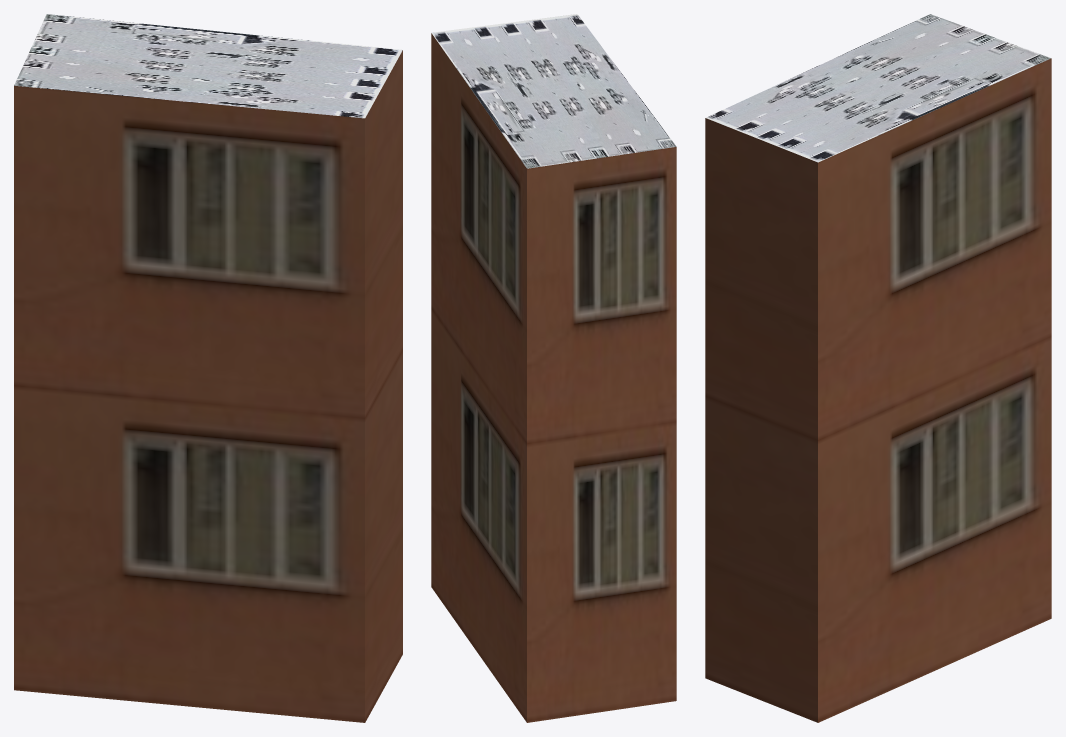
The model's file is ResTex__1699.fbx.
3 renders of one model, left to right at view 1: azimuth 30°, elevation 25°; view 2: azimuth 150°, elevation 25°; view 3: azimuth 270°, elevation 25°, orthographic. The views are drawn at different scales.
Visible parts, largest first — view 1: CityEngineMaterial_20_m, CityEngineMaterial_8_m; view 2: CityEngineMaterial_20_m, CityEngineMaterial_8_m; view 3: CityEngineMaterial_20_m, CityEngineMaterial_8_m.
Boxes of the visible parts, bbox=[...] form: CityEngineMaterial_20_m: bbox=[14, 50, 402, 722]; CityEngineMaterial_8_m: bbox=[14, 14, 402, 118]; CityEngineMaterial_20_m: bbox=[431, 33, 676, 722]; CityEngineMaterial_8_m: bbox=[431, 14, 676, 168]; CityEngineMaterial_20_m: bbox=[705, 58, 1051, 722]; CityEngineMaterial_8_m: bbox=[706, 14, 1050, 162].
Size of the model in its own units: 3.41 by 6 by 3.36.
Materials: 2 (2 with a texture image).
